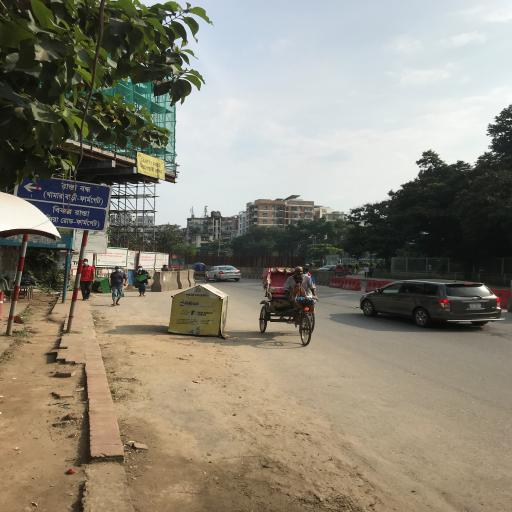car: (357, 282, 507, 331), (209, 266, 243, 283), (319, 266, 335, 272)
rickshaw: (258, 267, 319, 348), (193, 264, 208, 284), (335, 266, 345, 278), (349, 265, 356, 276), (344, 265, 349, 277), (309, 263, 316, 269)
